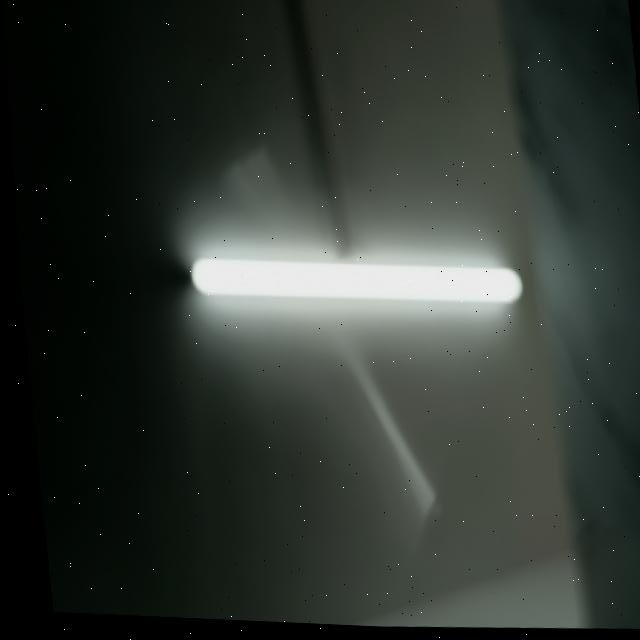fluorescent tube: (164, 220, 531, 346)
